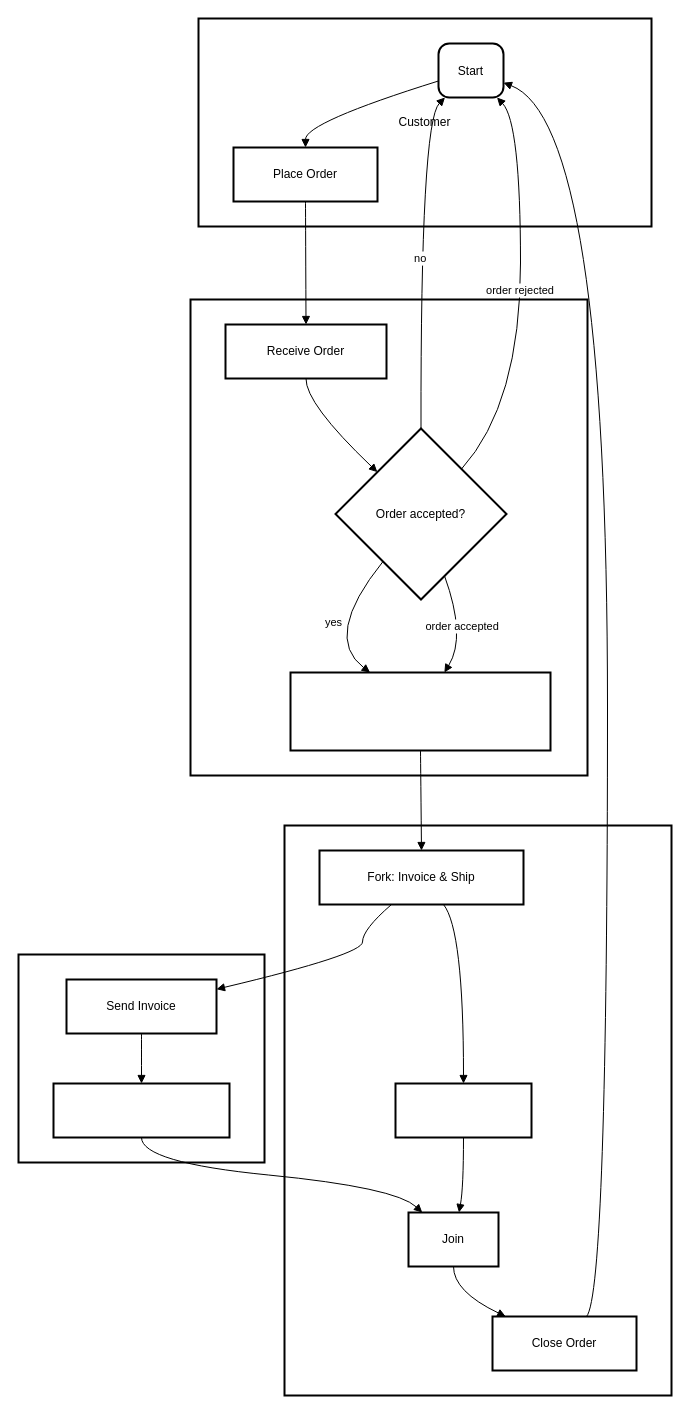
Some shapes in this 689 by 1413 pixel diagram are drawn without their labels. The shapes that lost their labels are listed below. From the top down, each one's box as (x1, y1, x2, y2) in pixels, then its label:
(189, 298, 588, 776): OrderSystem
(289, 671, 551, 751): Process Order / Prepare Invoice
(17, 953, 265, 1163): Accounting
(52, 1082, 230, 1138): Accept Payment
(394, 1082, 532, 1138): Ship Order
